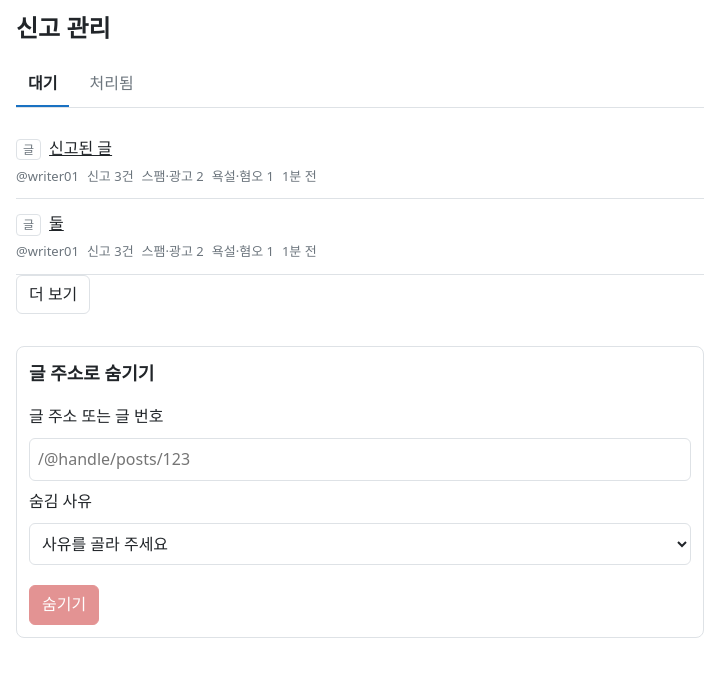
Test: AdminReportsPage › [더 보기]는 커서를 보내고 이미 있는 사건은 거른다
Click the button "더 보기": (53,295) [16, 275, 90, 314]
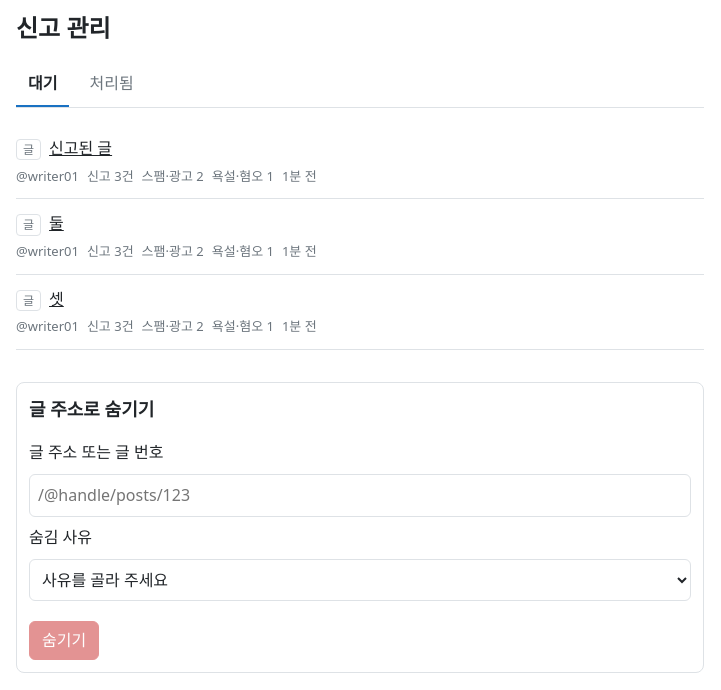
expect the link "셋" is shown: met, box [49, 287, 64, 312]
expect the button "더 보기" is gone: met
